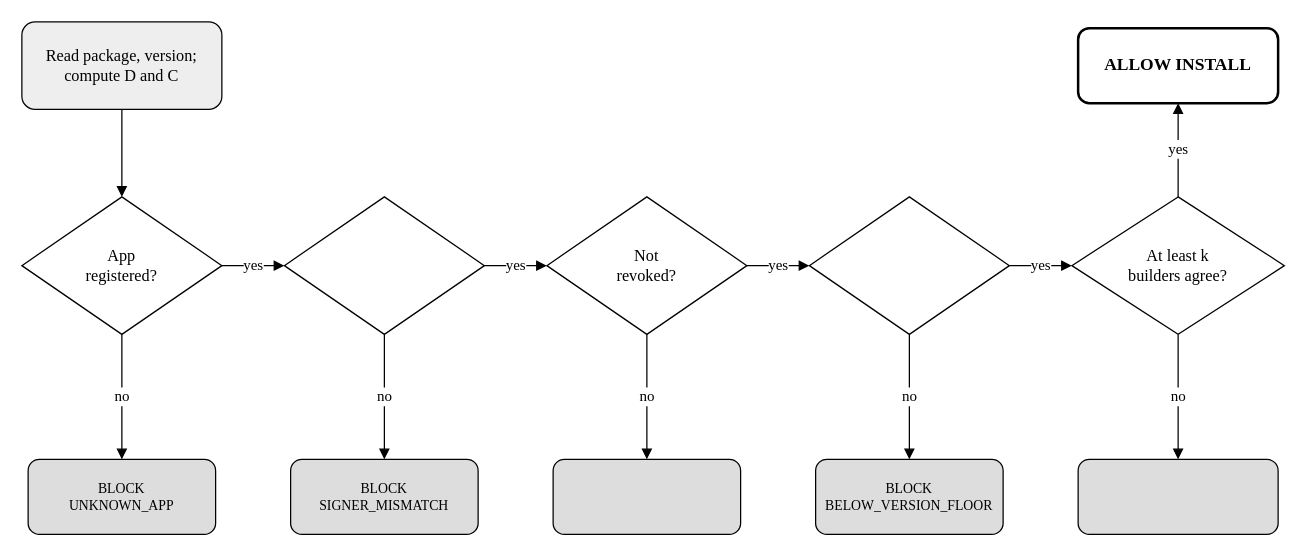
Image size: 1306x556. Some labels were removed from this diagram. The shapes that lost their labels are listed below. From the top down, each one's centre as x and y in pixels, then its label:
pixel 383 265: Signer matches?
pixel 908 265: Version >= floor?
pixel 646 496: BLOCK REVOKED
pixel 1177 496: BLOCK QUORUM_NOT_REACHED
